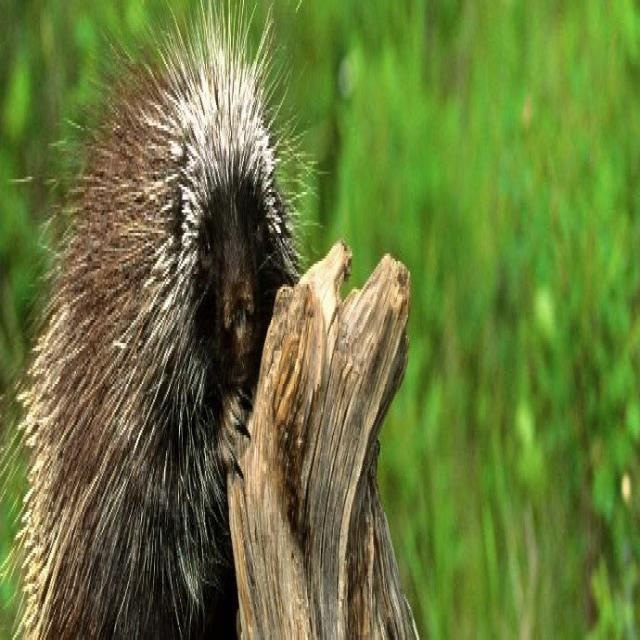porcupine: (24, 3, 300, 637)
